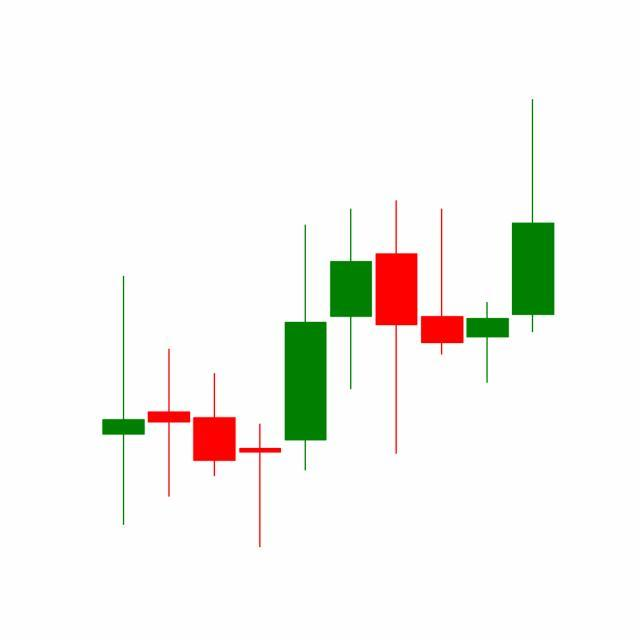Hikkake Pattern: (283, 198, 512, 475)
